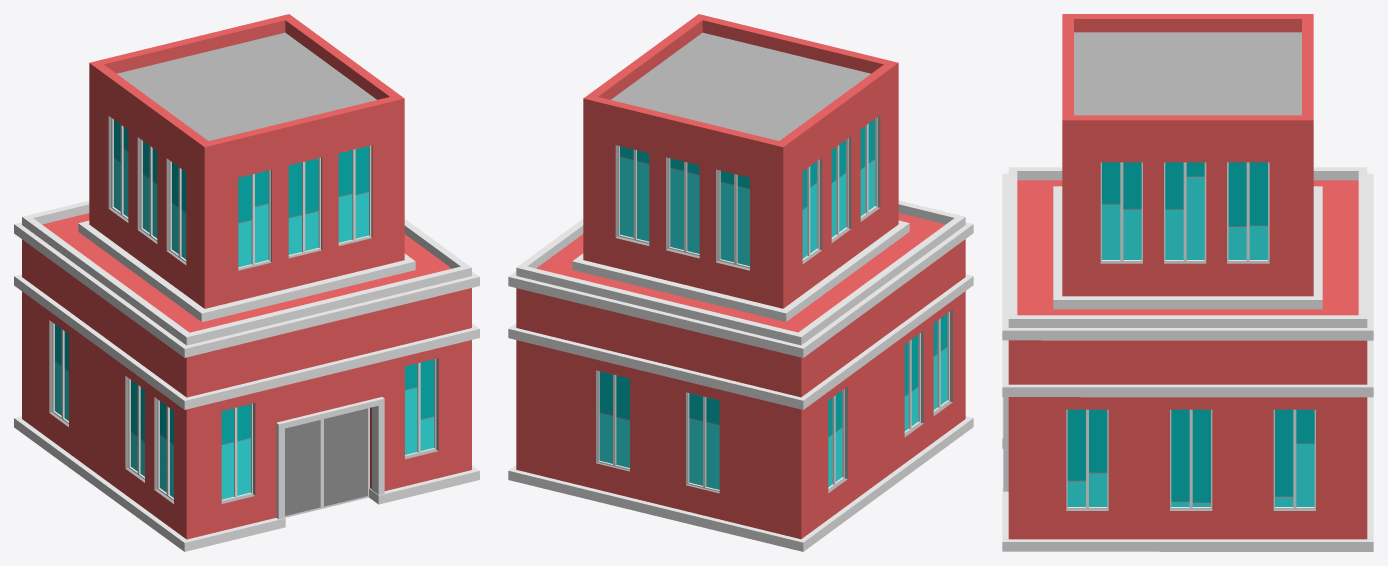
File: SM_House_21_02.FBX
3 views of the same model, side by side, from view 1: azimuth 30°, elevation 25°; view 2: azimuth 150°, elevation 25°; view 3: azimuth 270°, elevation 25° (orthographic). The views are drawn at different scales.
Visible parts, largest first — view 1: SM_House_21_02; view 2: SM_House_21_02; view 3: SM_House_21_02.
Boxes of the visible parts, x1,y1,x2,y2 form: SM_House_21_02: (14,14,479,551); SM_House_21_02: (508,14,973,551); SM_House_21_02: (1002,14,1373,551).
Size of the model in its own units: 6.21 by 7.5 by 6.21.
1 material, 1 textured.
